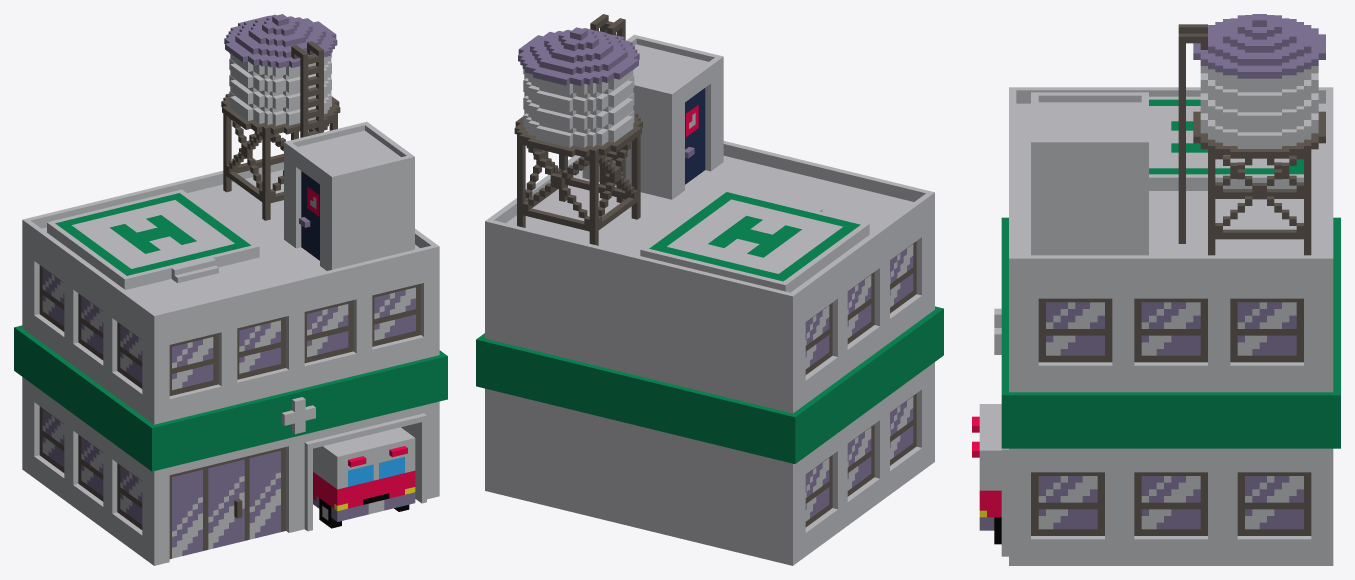
The model's file is hospital_b.obj.
3 views of the same model, side by side, from view 1: azimuth 30°, elevation 25°; view 2: azimuth 150°, elevation 25°; view 3: azimuth 270°, elevation 25° (orthographic). The views are drawn at different scales.
Size of the model in its own units: 5.7 by 7.7 by 5.
1 material, 1 textured.
